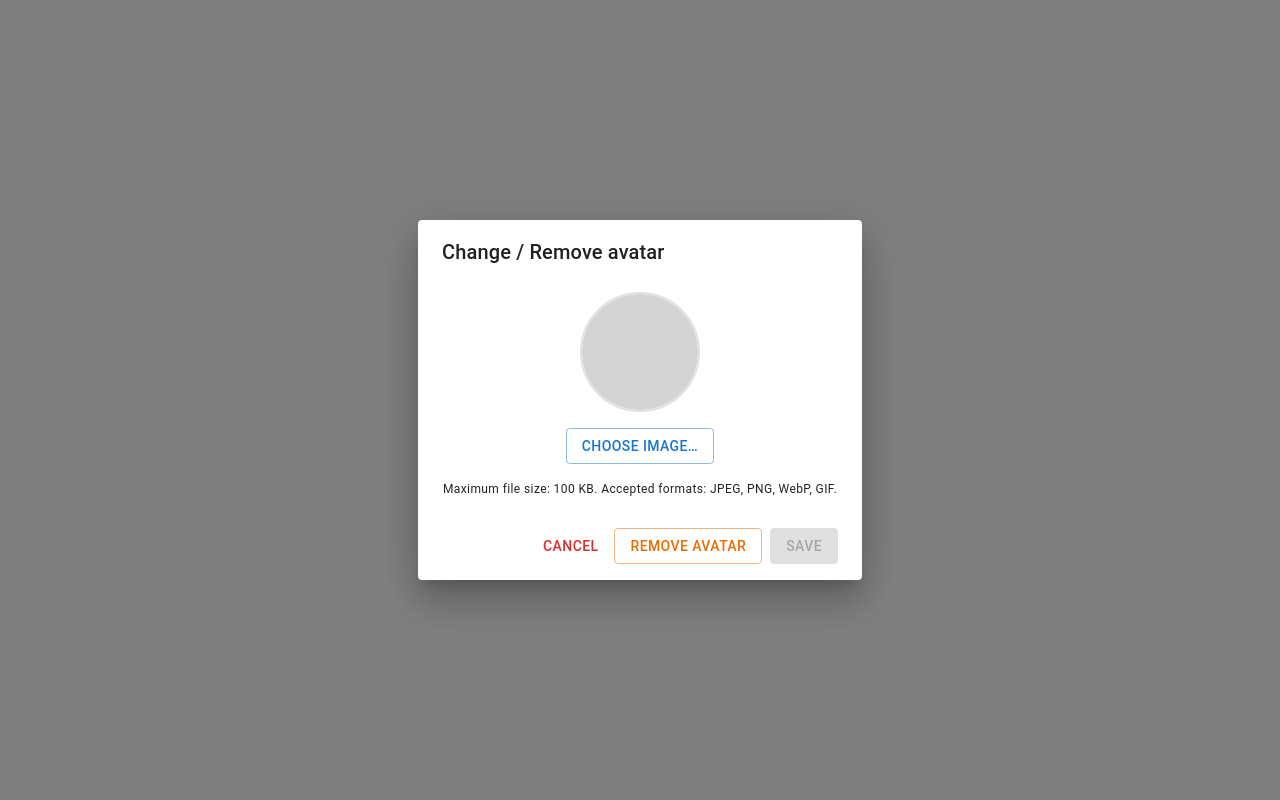
Test: UploadAvatarDialog › says so, and stays open, when removing fails
Click the button "Remove avatar" at (688, 546), box [614,528,762,564]
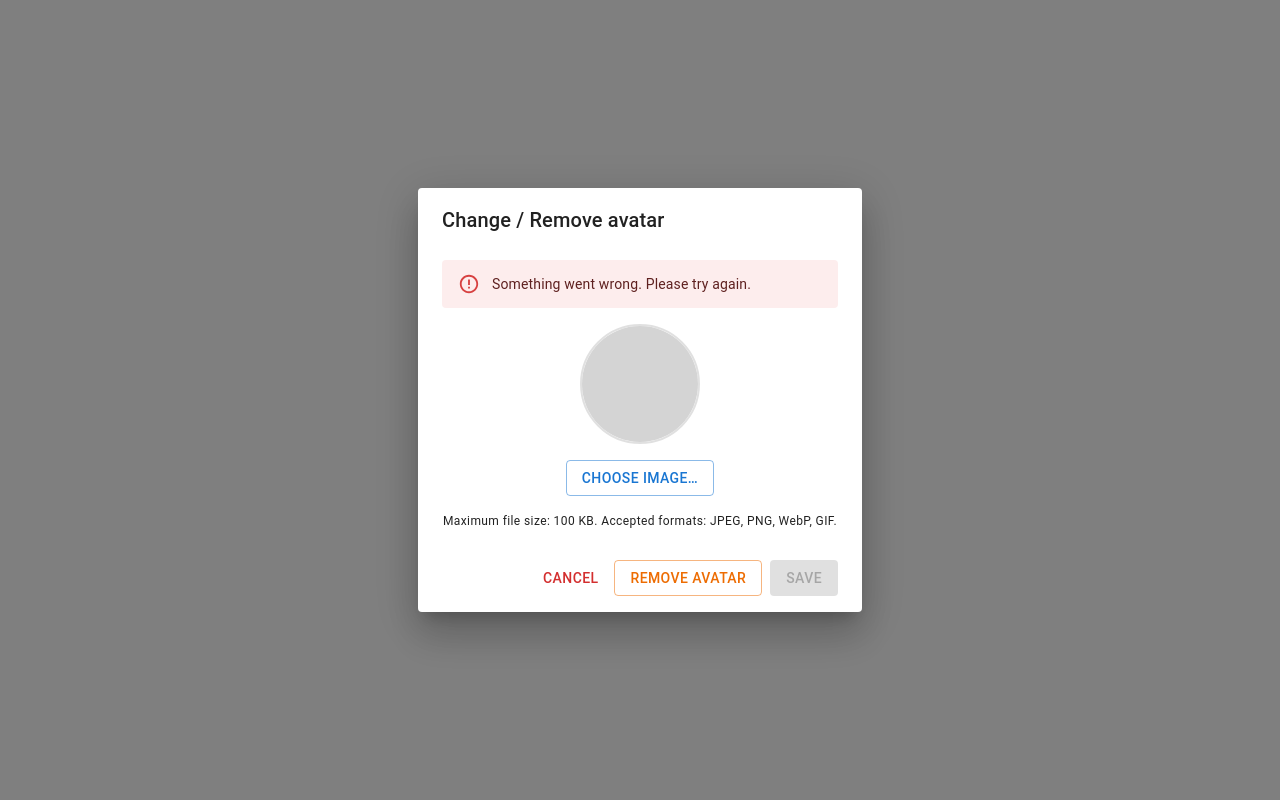
expect the message reads "Something went wrong. Please try again.": met, box [492,276,751,292]
